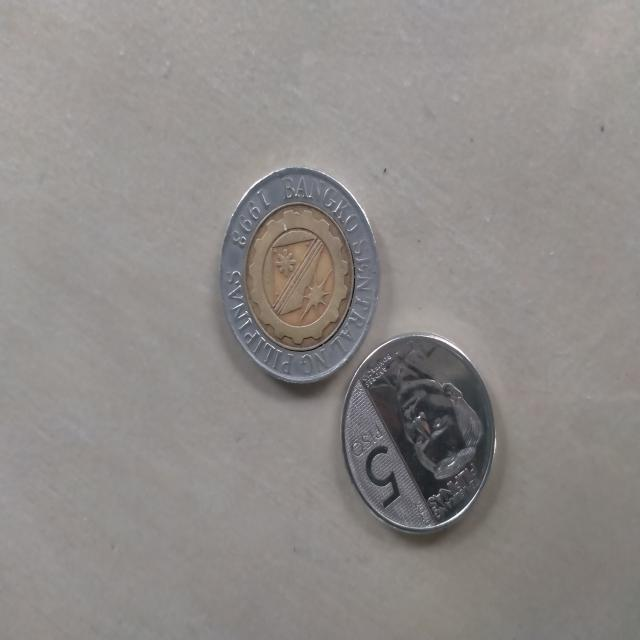10_Old_Back: (219, 164, 369, 386)
5_New_Front: (343, 410, 412, 519)
